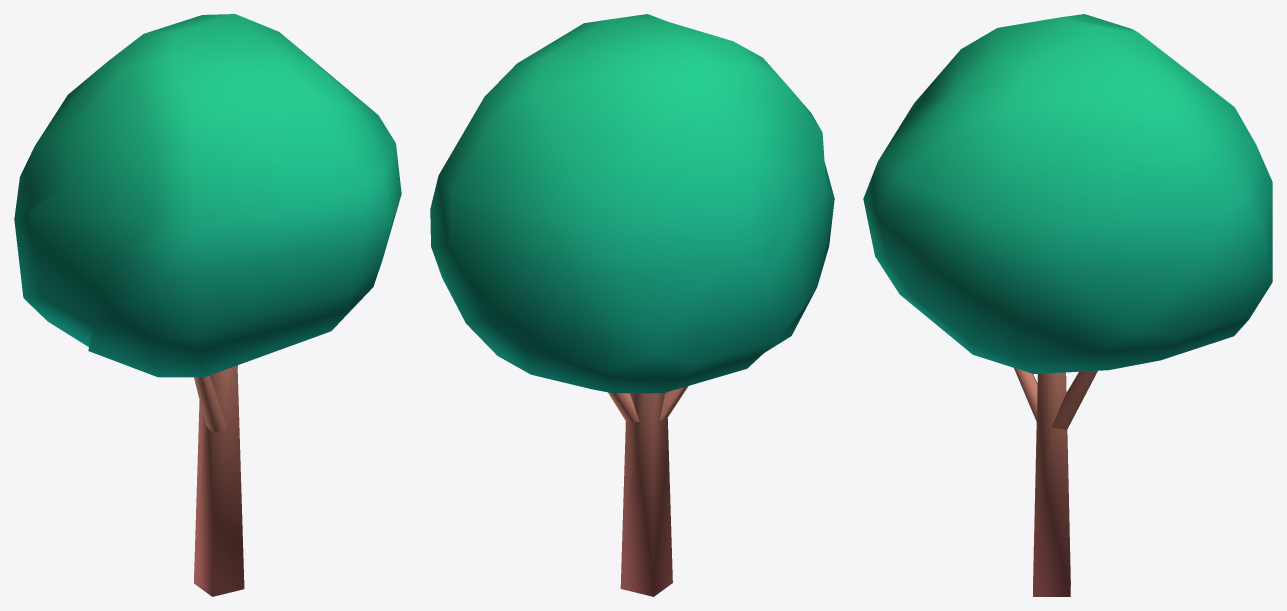
The model's file is Tree_1_3.fbx.
3 renders of one model, left to right at view 1: azimuth 30°, elevation 25°; view 2: azimuth 150°, elevation 25°; view 3: azimuth 270°, elevation 25°, orthographic. The views are drawn at different scales.
Visible parts, largest first — view 1: Tree_1_3; view 2: Tree_1_3; view 3: Tree_1_3.
Part boxes in pixels (x1,y1,x2,y2): Tree_1_3: (14,14,401,596); Tree_1_3: (430,14,834,596); Tree_1_3: (863,14,1272,596).
Bounding box in the file's own units: 197 × 310 × 208.
